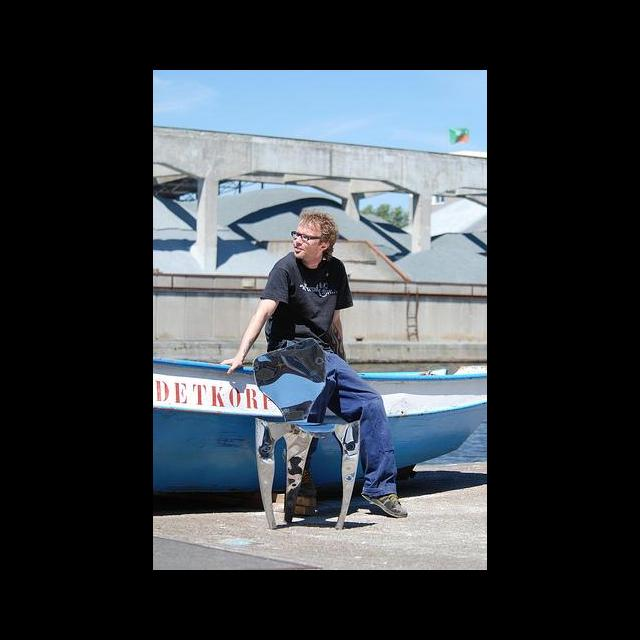NO-Hardhat: (299, 212, 337, 233)
NO-Mask: (293, 242, 321, 259)
NO-Safety Vest: (271, 251, 344, 343)
Person: (223, 211, 410, 518)
